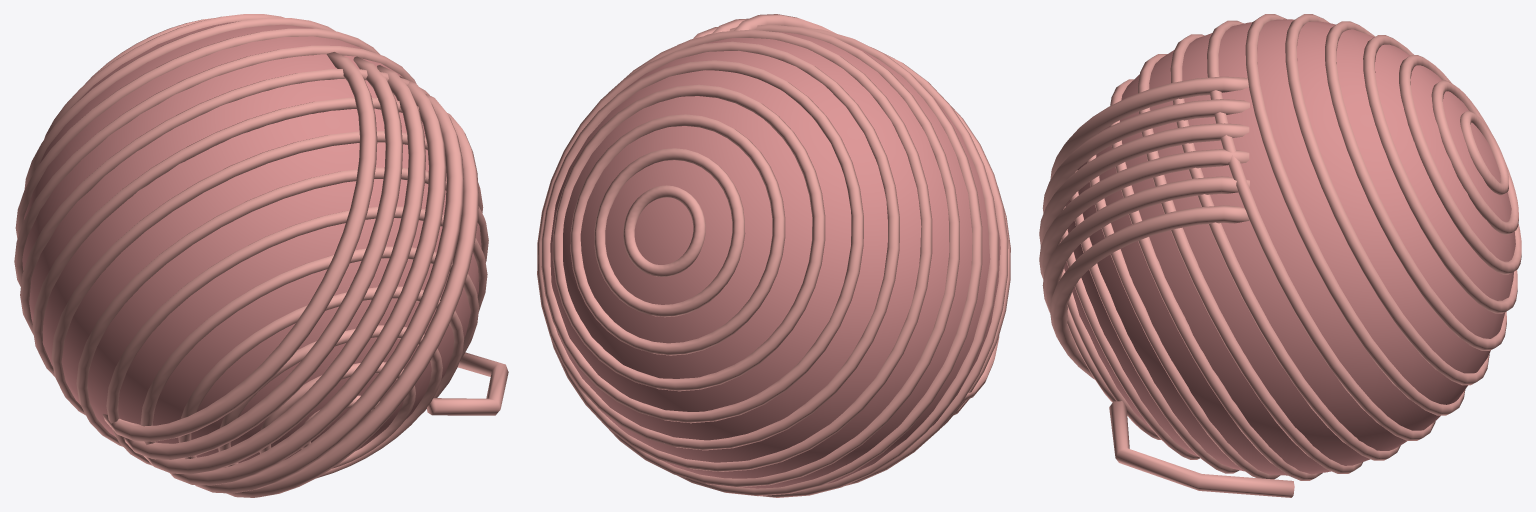
File: yarn.glb
3 views of the same model, side by side, from view 1: azimuth 30°, elevation 25°; view 2: azimuth 150°, elevation 25°; view 3: azimuth 270°, elevation 25° (orthographic).
Visible parts, largest first — view 1: ball; view 2: ball; view 3: ball.
Boxes of the visible parts, <box> form: ball: <box>14,14,508,497</box>; ball: <box>537,14,1010,497</box>; ball: <box>1039,14,1521,497</box>.
Size of the model in its own units: 0.0978 by 0.0965 by 0.0994.
